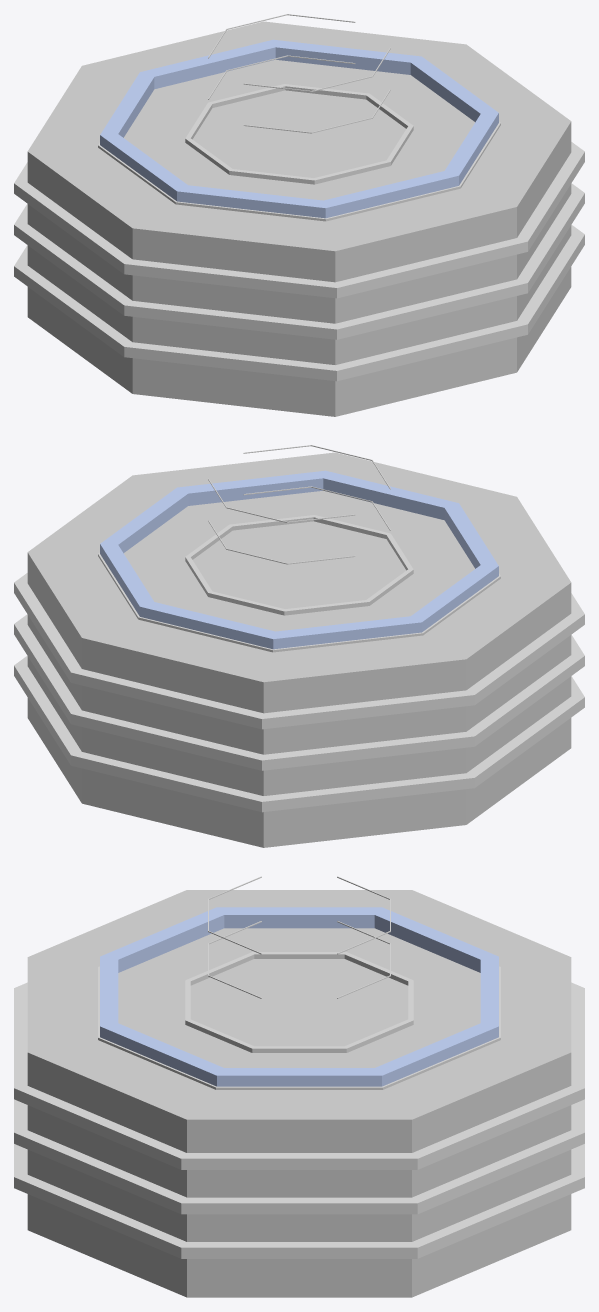
The model's file is futuristic.glb.
The picture shows the model from 3 angles, top to bottom: view 1: azimuth 30°, elevation 25°; view 2: azimuth 150°, elevation 25°; view 3: azimuth 270°, elevation 25°; orthographic projection. The views are drawn at different scales.
Parts seen in each view (by area): view 1: Circle.006, Circle.005, Circle.009, Circle.010, Circle.011, Circle.004, Circle.007, Circle.002, Circle.003; view 2: Circle.006, Circle.005, Circle.009, Circle.010, Circle.011, Circle.004, Circle.007, Circle.002, Circle.003; view 3: Circle.006, Circle.005, Circle.009, Circle.010, Circle.011, Circle.004, Circle.007.
Boxes of the visible parts, x1,y1,x2,y2 form: Circle.006: (27,21,571,416); Circle.005: (100,39,498,218); Circle.009: (14,142,584,298); Circle.010: (14,183,584,339); Circle.011: (14,224,584,381); Circle.004: (185,84,413,184); Circle.007: (98,121,500,221); Circle.002: (208,14,390,92); Circle.003: (208,55,390,133); Circle.006: (27,452,571,847); Circle.005: (100,470,498,649); Circle.009: (14,573,584,729); Circle.010: (14,614,584,770); Circle.011: (14,655,584,812); Circle.004: (185,515,413,615); Circle.007: (98,552,500,652); Circle.002: (208,445,390,523); Circle.003: (208,486,390,564); Circle.006: (27,890,571,1297); Circle.005: (100,907,498,1086); Circle.009: (14,982,584,1169); Circle.010: (14,1099,584,1214); Circle.011: (14,1144,584,1258); Circle.004: (185,952,413,1052); Circle.007: (98,966,500,1089).
Bounding box in the file's own units: 5.82 × 3.01 × 5.82.
